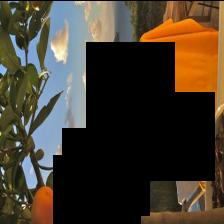orange: (140, 17, 219, 190), (33, 187, 56, 224)
